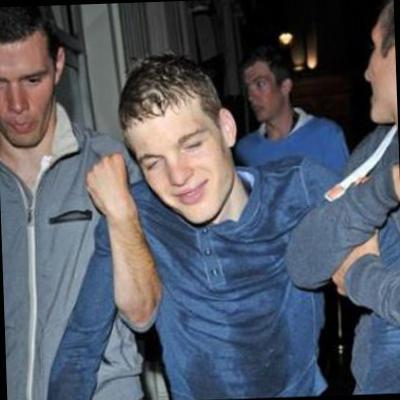Drunk: (126, 114, 233, 226)
